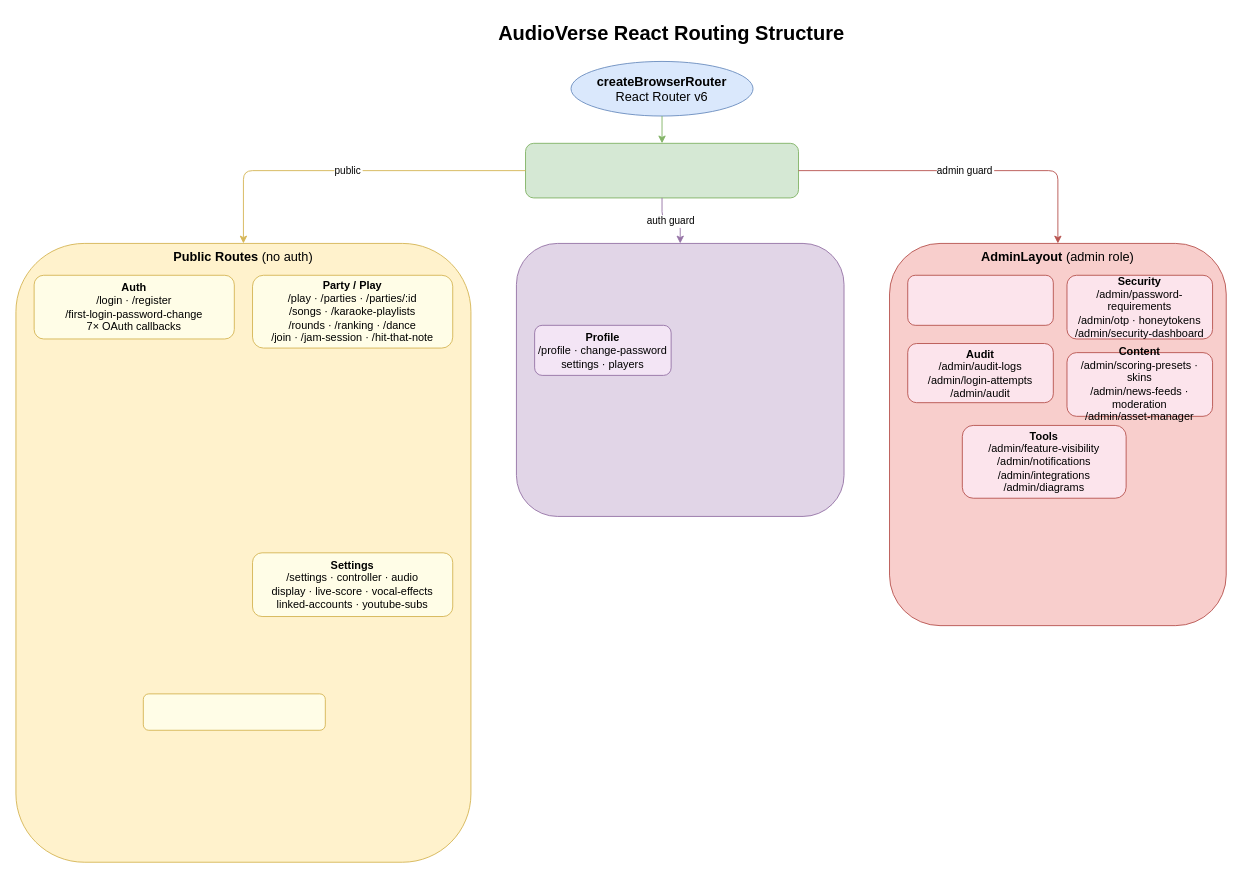
Image size: 1242x878. Some labels were removed from this diagram. Each missing label, with the box of its shape:
404 Catch-all /* → NotFoundPage: (142, 693, 325, 730)
AuthLayout (requires login): (516, 243, 844, 516)
Core Admin /admin · /admin/users /admin/settings: (907, 274, 1053, 325)
RootLayout (NavBar, Sidebar, ToastProvider, QueryClient, i18n, Outlet): (525, 142, 799, 198)
